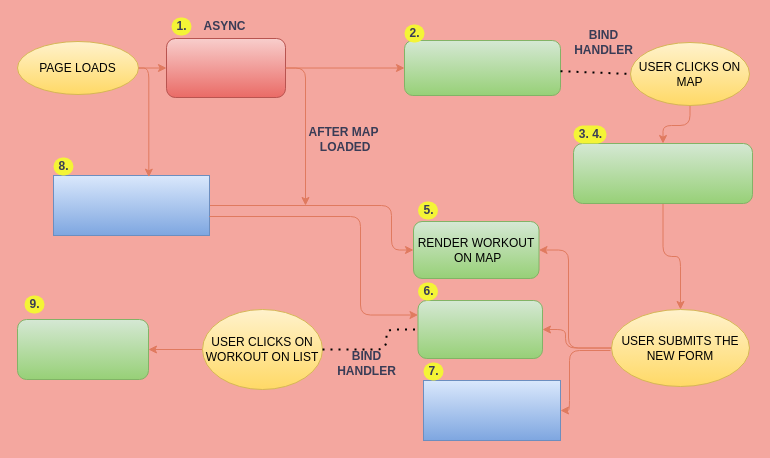
The diagram is 770 pixels wide and 458 high, and some of its shapes have lost their labels. Here are the shapes that lost their labels. From the top down, the box of each, then its label:
(166, 38, 286, 98): GET CURRENT GEOLOCATION
(404, 40, 560, 96): RENDER MAP ON CURRENT LOCATION
(572, 142, 752, 204): RENDER WORKOUT FORM
(52, 174, 210, 236): LOAD WORKOUTS FROM LOCAL STORAGE
(16, 318, 148, 380): MOVE MAP TO THE WORKOUT LOCATION
(417, 300, 542, 358): RENDER WORKOUT ON LIST
(422, 380, 560, 440): STORE WORKOUTS IN LOCAL STORAGE
